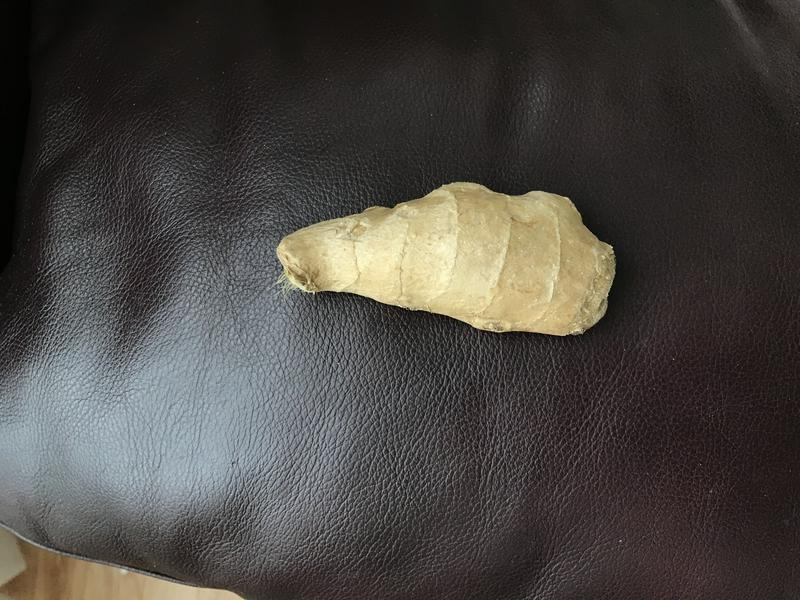ginger: (263, 171, 625, 355)
